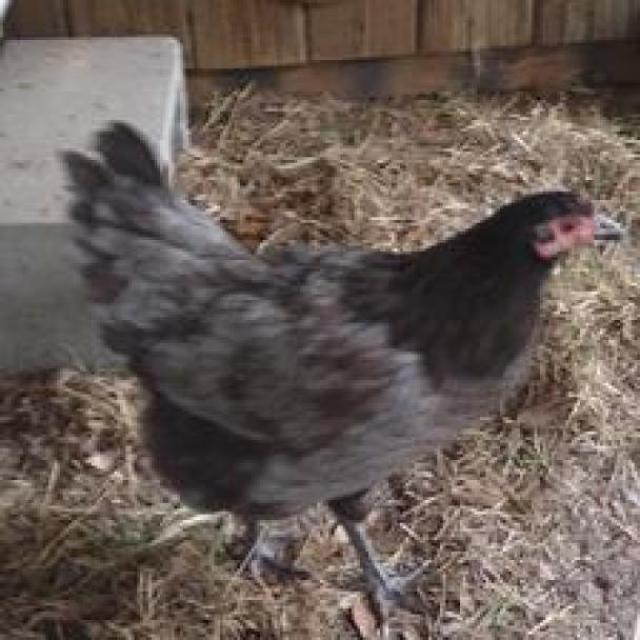Chicken: (47, 103, 617, 618)
